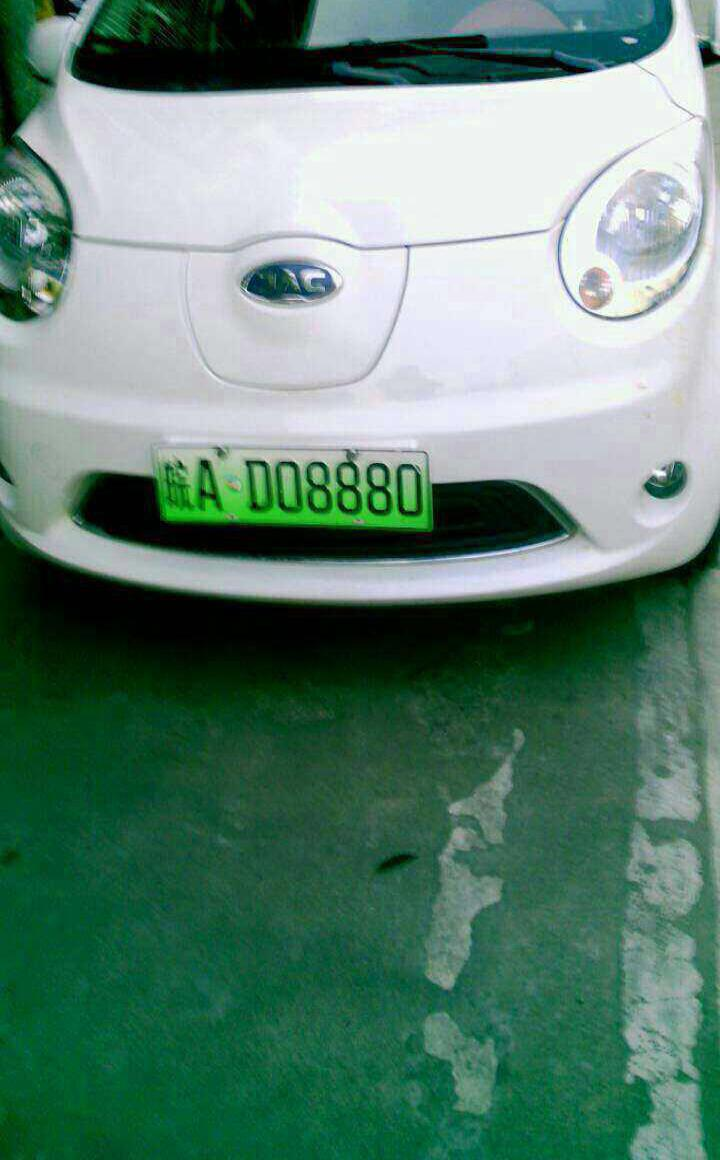car_green: (150, 439, 435, 541)
